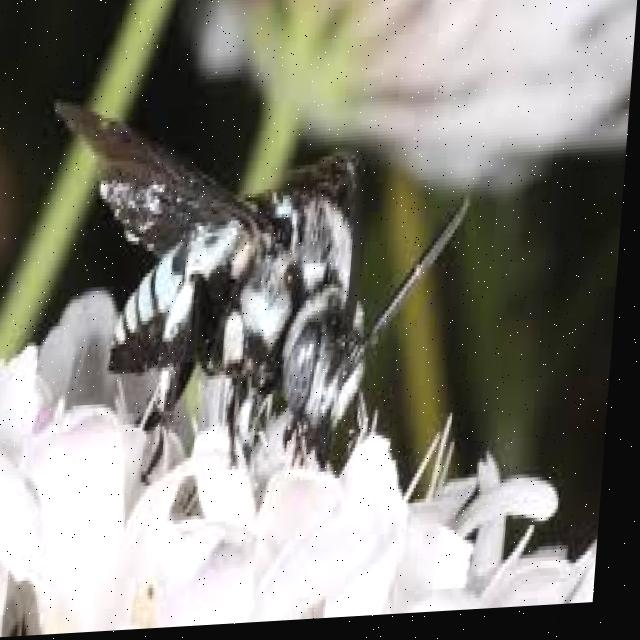Thyreus: (33, 31, 484, 518)
